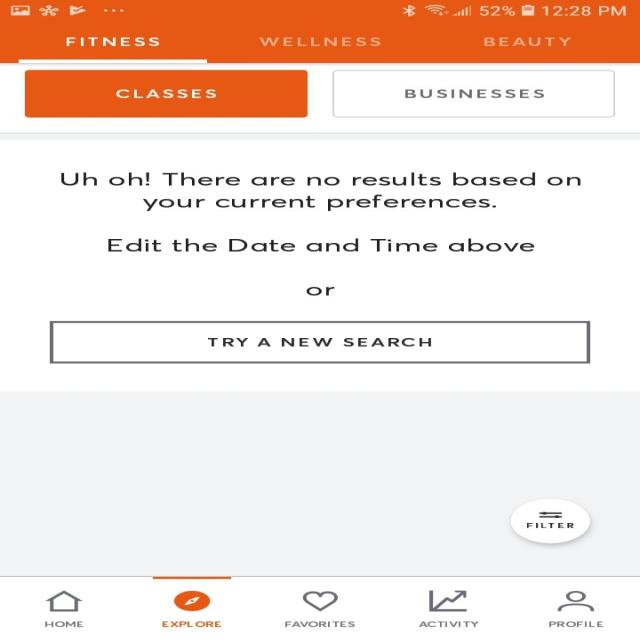Icon: (45, 590, 83, 611), (428, 590, 466, 611), (302, 590, 338, 612), (174, 590, 211, 611), (557, 590, 594, 610)
Text: (60, 172, 580, 212), (106, 237, 534, 252), (258, 37, 380, 46), (66, 37, 160, 46), (484, 37, 572, 46), (284, 620, 354, 626), (548, 620, 602, 627), (418, 621, 478, 627), (162, 621, 222, 627), (306, 286, 336, 296), (44, 620, 84, 626)
TextButton: (48, 320, 590, 364), (25, 70, 308, 118), (332, 70, 614, 118), (510, 498, 590, 543)
